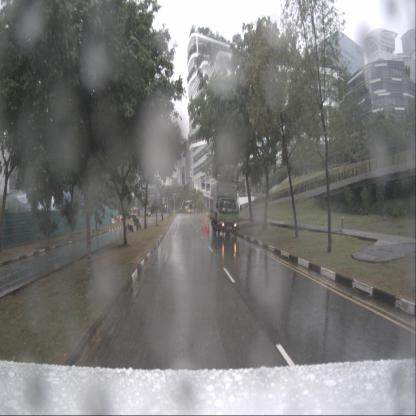barrier: (114, 216, 117, 224), (111, 217, 114, 224), (120, 216, 123, 223), (118, 216, 121, 223), (116, 216, 119, 223)
cone: (206, 221, 209, 233), (203, 221, 206, 231), (201, 220, 204, 230), (204, 219, 207, 229), (90, 227, 93, 236)
